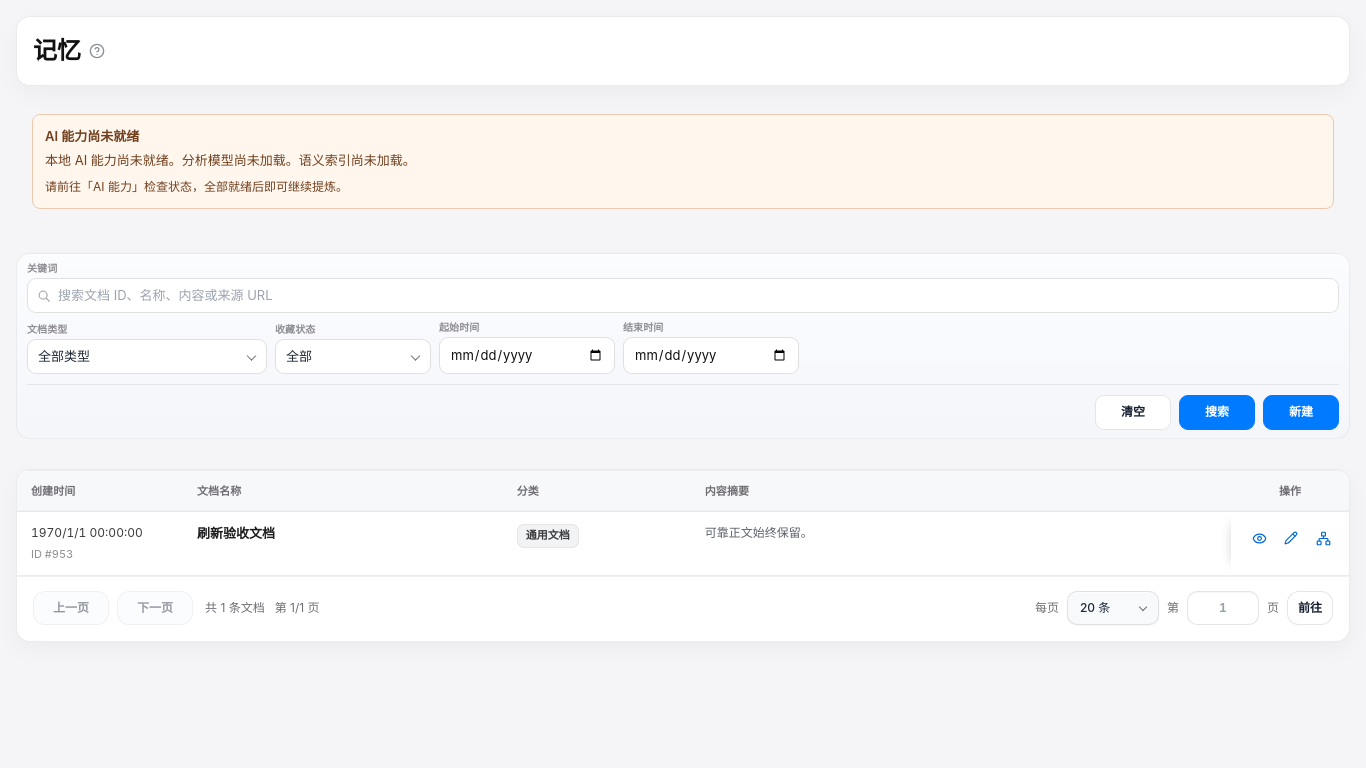
Scenario: 显式搜索交互 › 刷新失败后打开的详情展示本次原因并保留可靠正文
Click the button named "查看文档「刷新验收文档」详情". click: click(1259, 538)
box: [1245,524,1273,552]
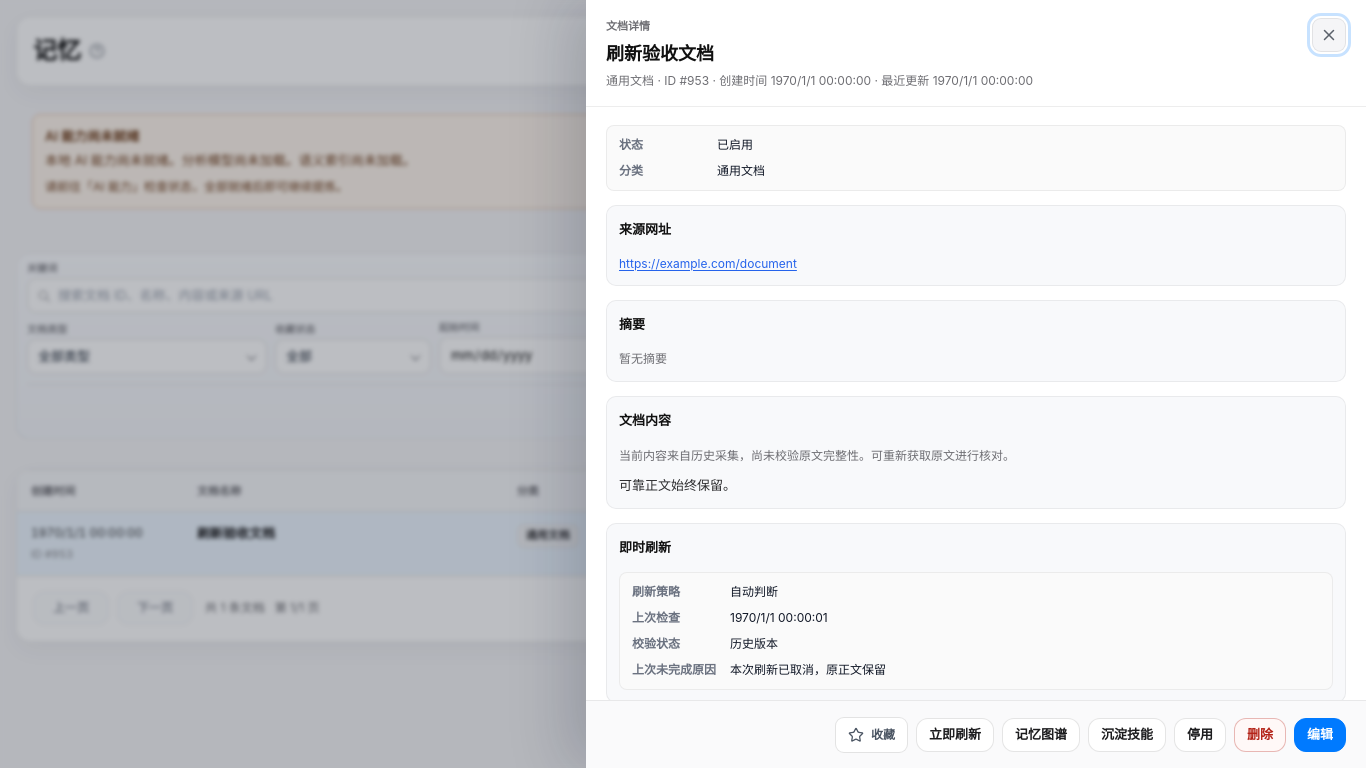
Click the button "立即刷新". click: click(955, 734)
box: [916,718,994,752]
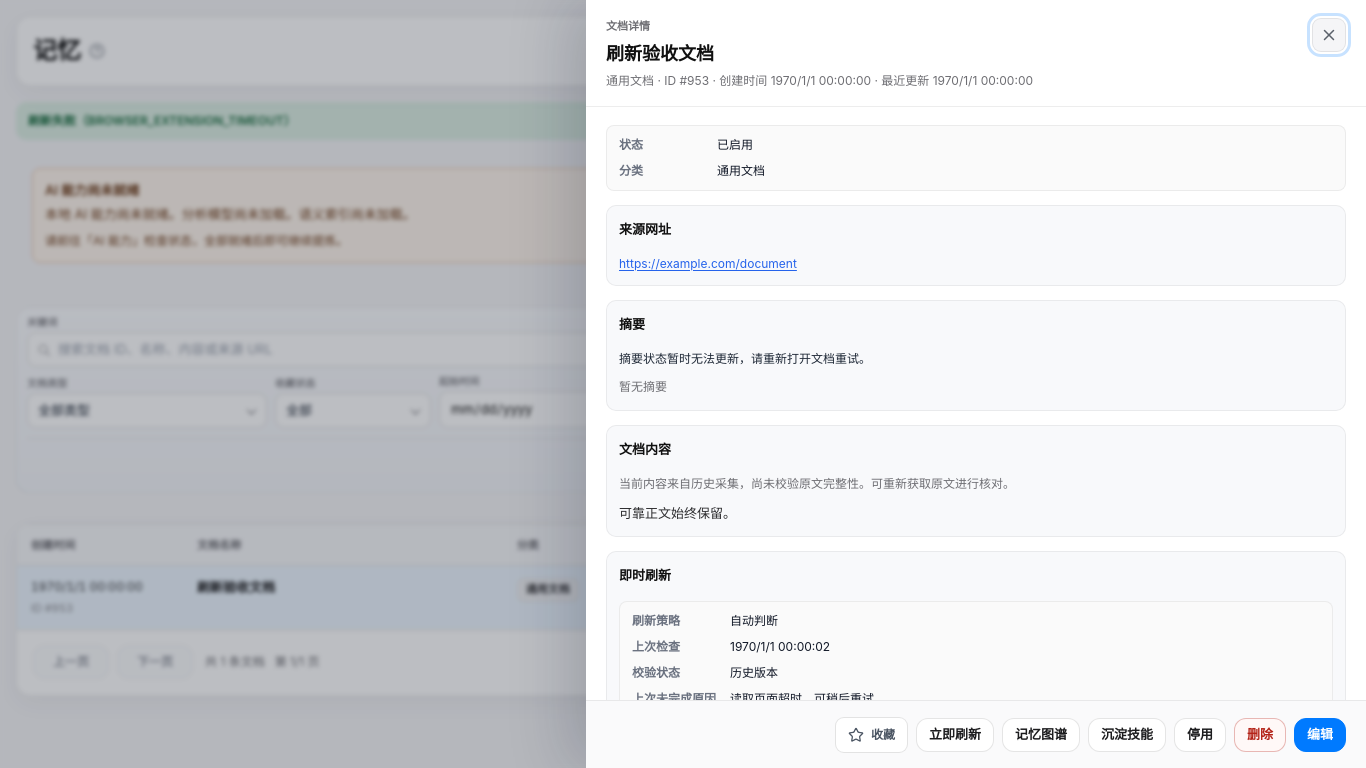
Check: the text "读取页面超时，可稍后重试" is shown, box [730,690,874,700]
Check: the text "本次刷新已取消，原正文保留" is gone
